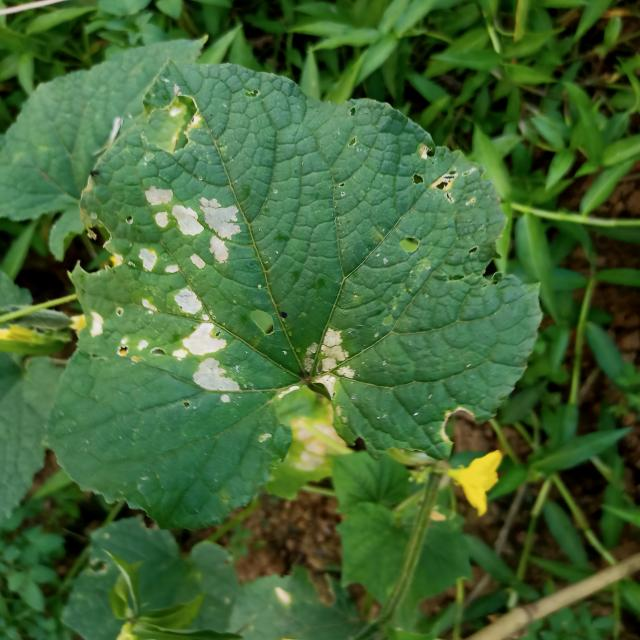disease_cucumber: (84, 275, 252, 407), (122, 171, 262, 277), (296, 322, 365, 403)
